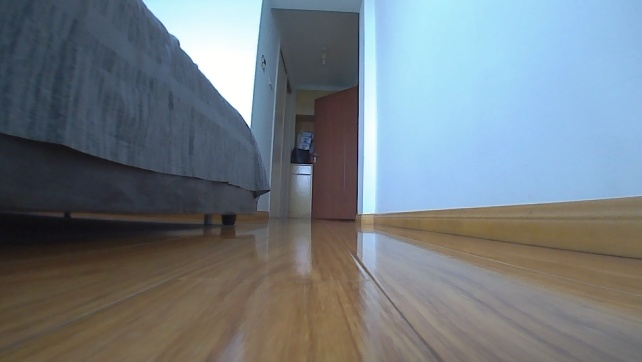bed1: (0, 0, 272, 227)
door_anno: (307, 83, 360, 221)
